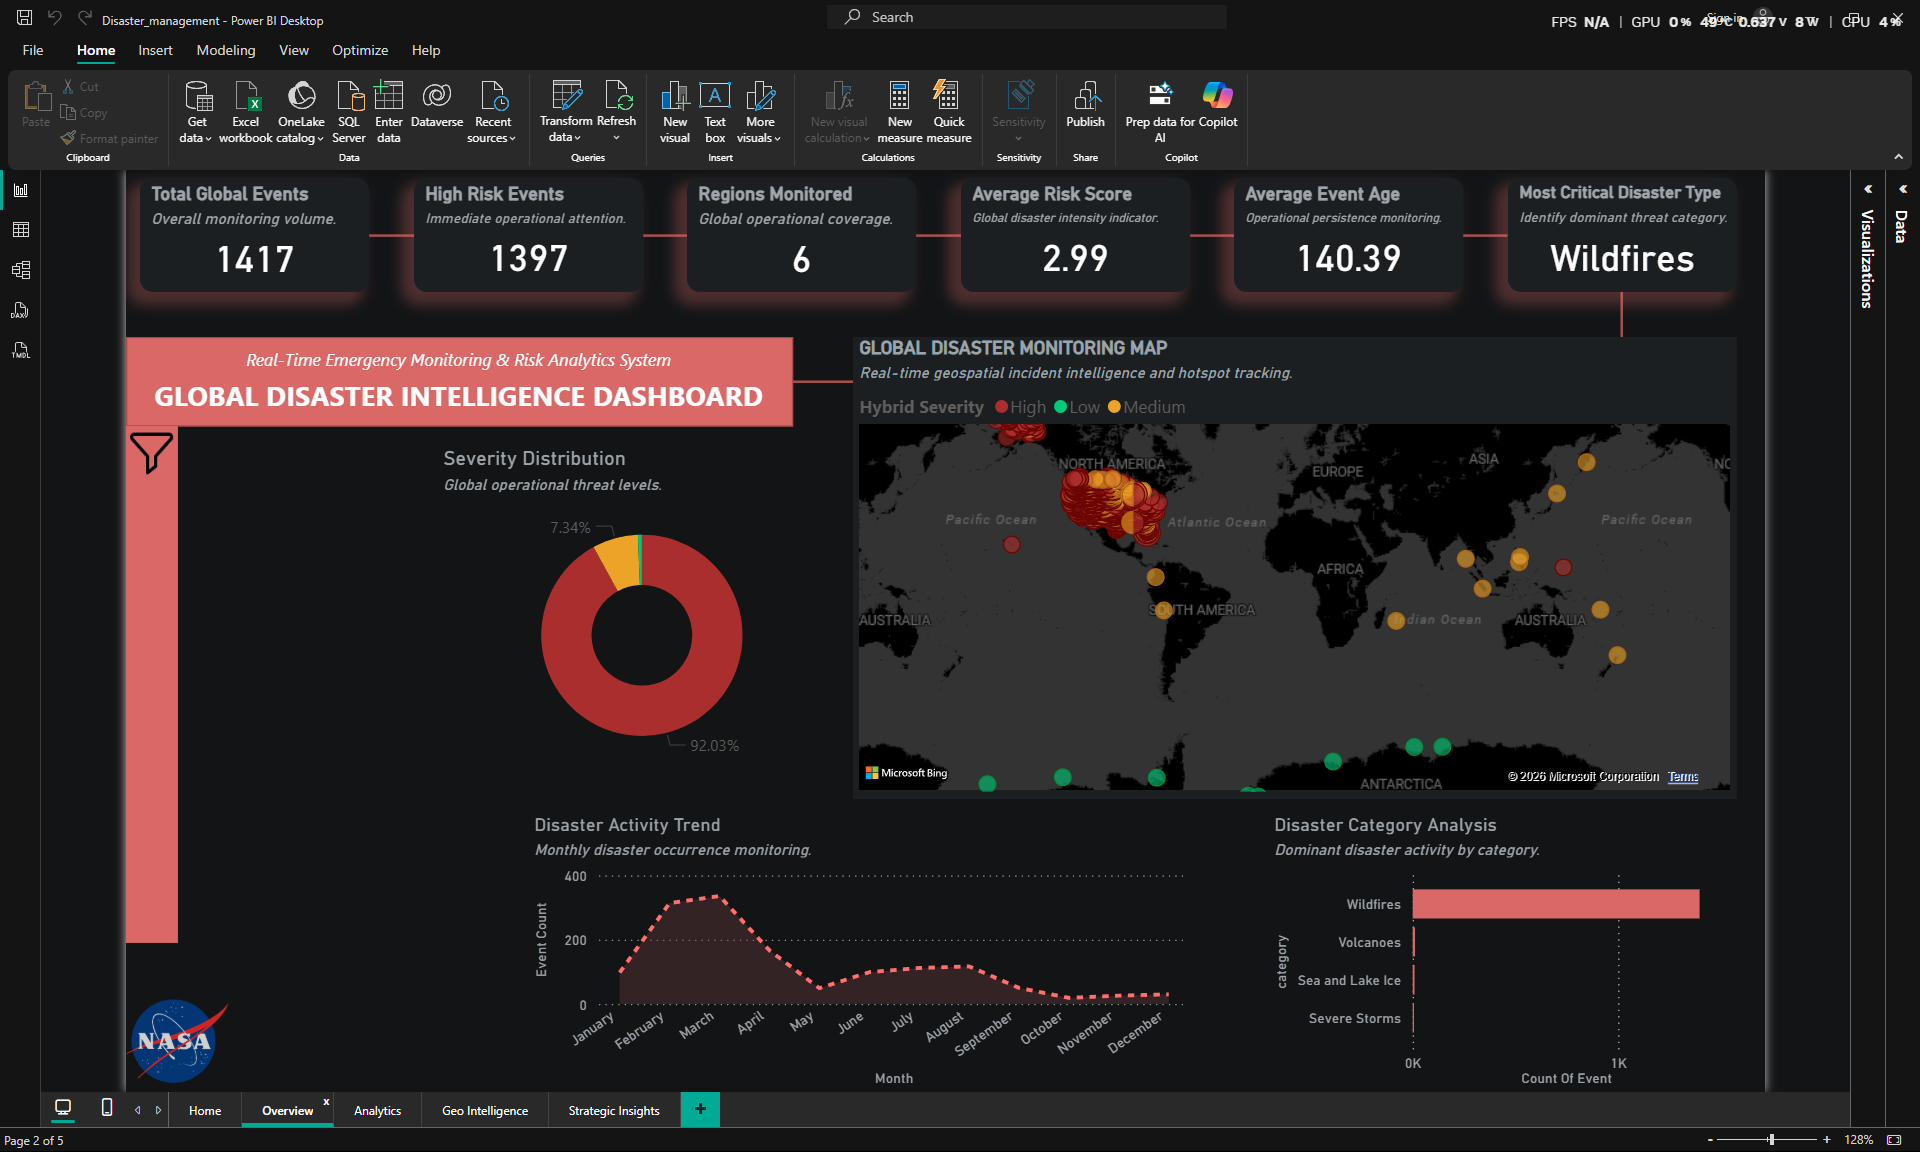

What the dashboard file says about the page in this screenshot:
{"tool":"powerbi","page":{"name":"Overview","canvas":[1280,720],"ordinal":1},"visuals":[{"type":"shape","box":[446.8,159.6,318.3,12.1],"z":0},{"type":"shape","box":[189.8,12.9,889.3,75.9],"z":1000},{"type":"shape","box":[0,130.2,521,69.9],"z":2000},{"type":"textbox","box":[11.2,134.6,497.7,61.2],"z":3000},{"type":"card","title":"Total Global Events","fields":{"Values":["Measure.Total_Event"]},"box":[11.2,6,178.5,88.8],"z":4000},{"type":"card","title":"Regions Monitored","fields":{"Values":["Measure.Regions Affected"]},"box":[438.3,6,178.5,88.8],"z":5000},{"type":"card","title":"Average Risk Score","fields":{"Values":["Measure.Average Risk Score"]},"box":[651.9,6,178.5,88.8],"z":6000},{"type":"card","title":"Average Event Age","fields":{"Values":["Measure.Average Event Age"]},"box":[865.5,6,178.5,88.8],"z":7000},{"type":"shape","box":[1161.8,12.9,12.1,202.7],"z":8000},{"type":"card","title":"High Risk Events","fields":{"Values":["Measure.High Risk Events"]},"box":[224.8,6,178.5,88.8],"z":9000},{"type":"card","title":"Most Critical Disaster Type","fields":{"Values":["Measure.Most Critical Disaster Type"]},"box":[1079,6,178.5,88.8],"z":10000},{"type":"map","title":"GLOBAL DISASTER MONITORING MAP","fields":{"Y":["disaster_events.latitude"],"X":["disaster_events.longitude"],"Size":["CountNonNull(disaster_events.event_id)"],"Series":["disaster_events.Hybrid Severity"]},"box":[567.5,130.2,690,359.7],"z":11000},{"type":"donutChart","title":"Severity Distribution","fields":{"Category":["disaster_events.Hybrid Severity"],"Y":["CountNonNull(disaster_events.event_id)"]},"box":[243.2,215.6,320,259.6],"z":12000},{"type":"clusteredBarChart","title":"Disaster Category Analysis","fields":{"Y":["CountNonNull(disaster_events.event_id)"],"Category":["disaster_events.category"]},"box":[891.9,502.6,365.7,217.4],"z":13000},{"type":"image","box":[0,640,80.2,80.2],"z":14000},{"type":"lineChart","title":"Disaster Activity Trend","fields":{"Y":["CountNonNull(disaster_events.event_id)"],"Category":["disaster_events.month_name"]},"box":[314,502.6,521,217.4],"z":15000},{"type":"shape","box":[0,200.1,40.5,403.7],"z":16000},{"type":"image","box":[0,199.7,40.3,41.3],"z":18000}]}

Visuals, with their boxes on the page's 1280x720 design canvas (x1, y1, x2, y2). These are canvas units, not pixel positions in the 1920x1152 screenshot, which may show the page scaled, cropped or inside an application window:
shape: box=[447, 160, 765, 172]
shape: box=[190, 13, 1079, 89]
shape: box=[0, 130, 521, 200]
textbox: box=[11, 135, 509, 196]
"Total Global Events" card: box=[11, 6, 190, 95]
"Regions Monitored" card: box=[438, 6, 617, 95]
"Average Risk Score" card: box=[652, 6, 830, 95]
"Average Event Age" card: box=[866, 6, 1044, 95]
shape: box=[1162, 13, 1174, 216]
"High Risk Events" card: box=[225, 6, 403, 95]
"Most Critical Disaster Type" card: box=[1079, 6, 1258, 95]
"GLOBAL DISASTER MONITORING MAP" map: box=[568, 130, 1258, 490]
"Severity Distribution" donutChart: box=[243, 216, 563, 475]
"Disaster Category Analysis" clusteredBarChart: box=[892, 503, 1258, 720]
image: box=[0, 640, 80, 720]
"Disaster Activity Trend" lineChart: box=[314, 503, 835, 720]
shape: box=[0, 200, 40, 604]
image: box=[0, 200, 40, 241]
